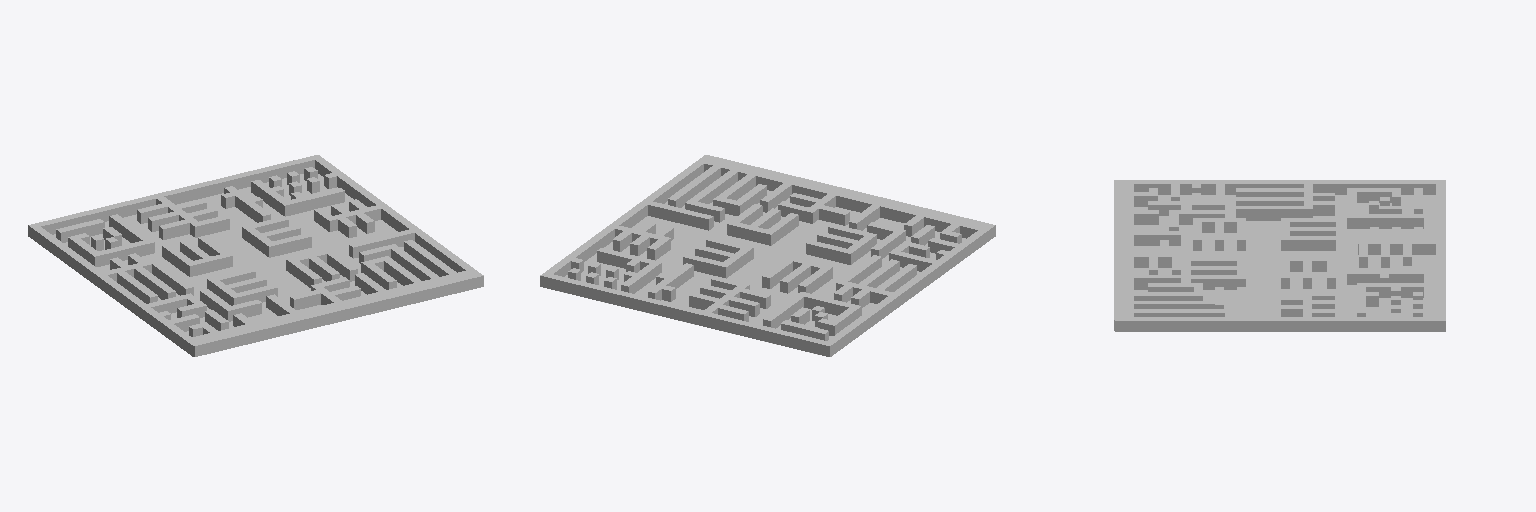
Rendered from level3.obj.
3 views of the same model, side by side, from view 1: azimuth 30°, elevation 25°; view 2: azimuth 150°, elevation 25°; view 3: azimuth 270°, elevation 25° (orthographic).
Parts seen in each view (by area): view 1: level3; view 2: level3; view 3: level3.
Boxes of the visible parts, x1=… form: level3: x1=28, y1=155, x2=483, y2=356; level3: x1=540, y1=155, x2=995, y2=356; level3: x1=1114, y1=180, x2=1445, y2=331.
Size of the model in its own units: 50.54 by 1.85 by 50.04.